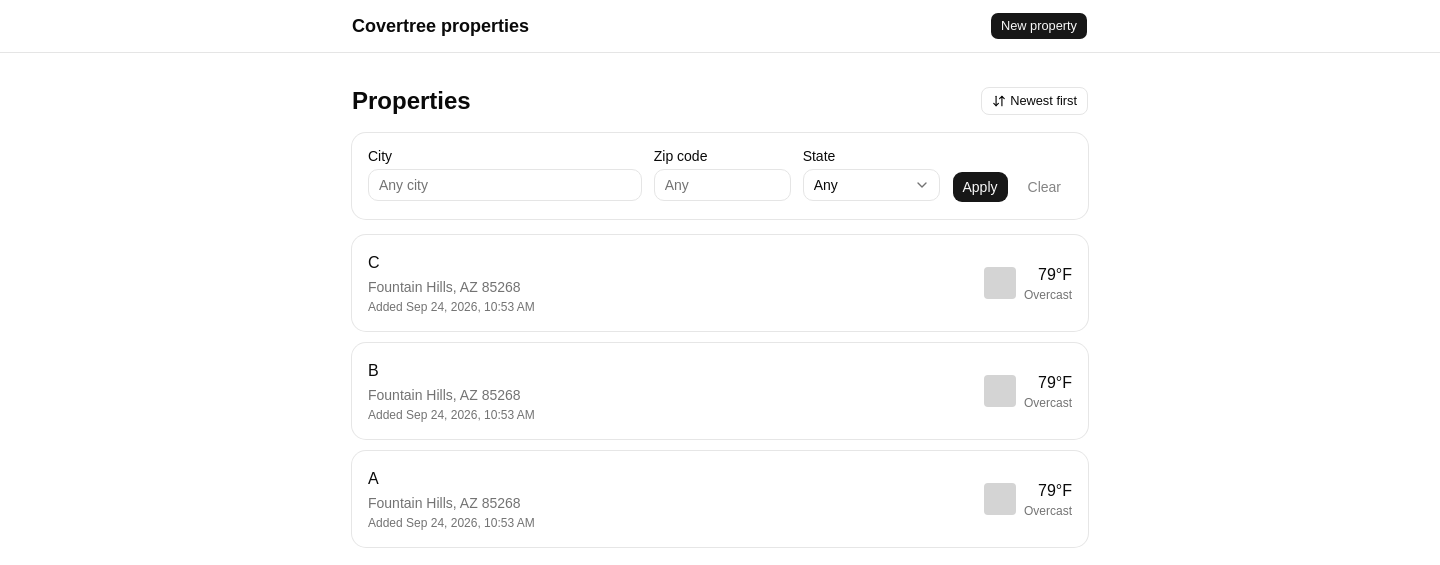
Test: property list › S2.4 shows "Newest first" by default and re-queries oldest first on toggle
Expected: the text "C" is shown, 368,254 -> 380,271
Click the button "Newest first" at point(1035, 101), box 981,87 -> 1088,115
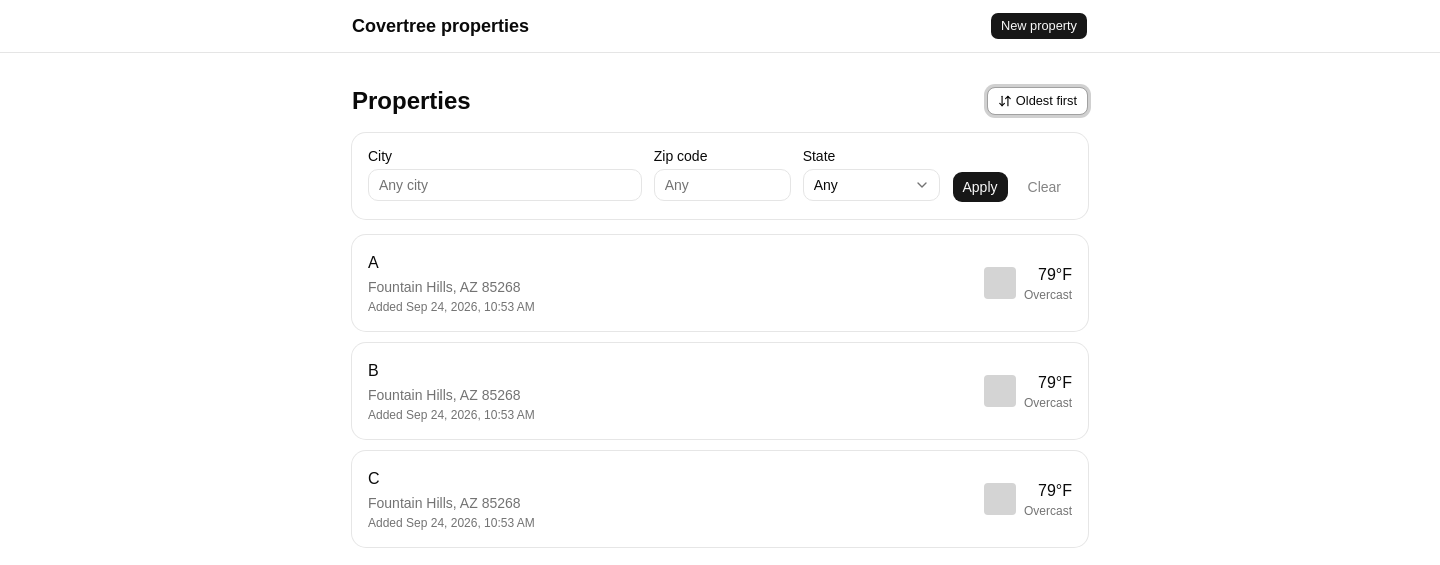
Expected: the text "A" is shown, 368,254 -> 379,271
Expected: the button "Oldest first" is shown, 987,87 -> 1088,115
